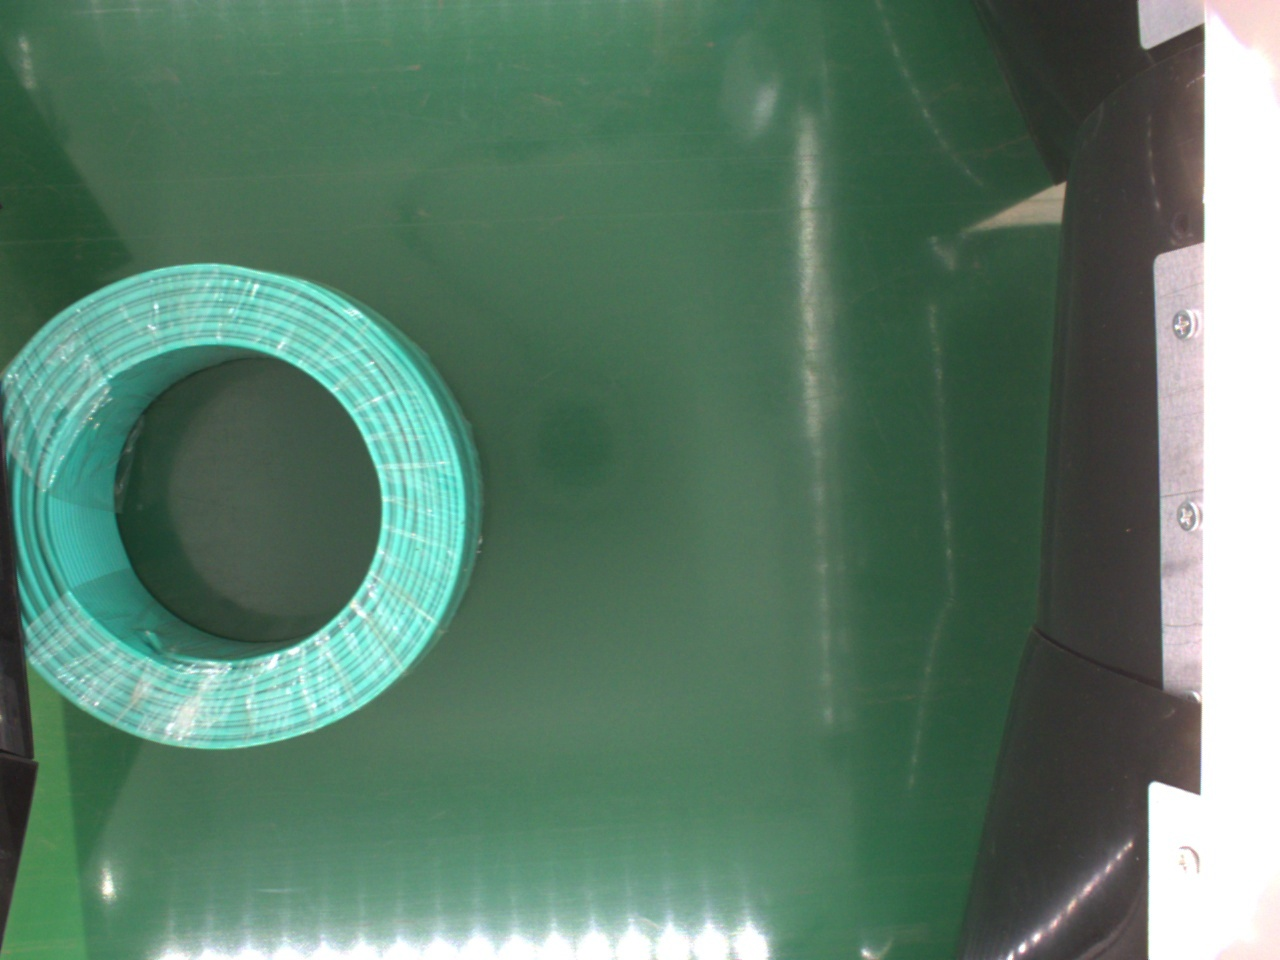green: (11, 258, 479, 753)
